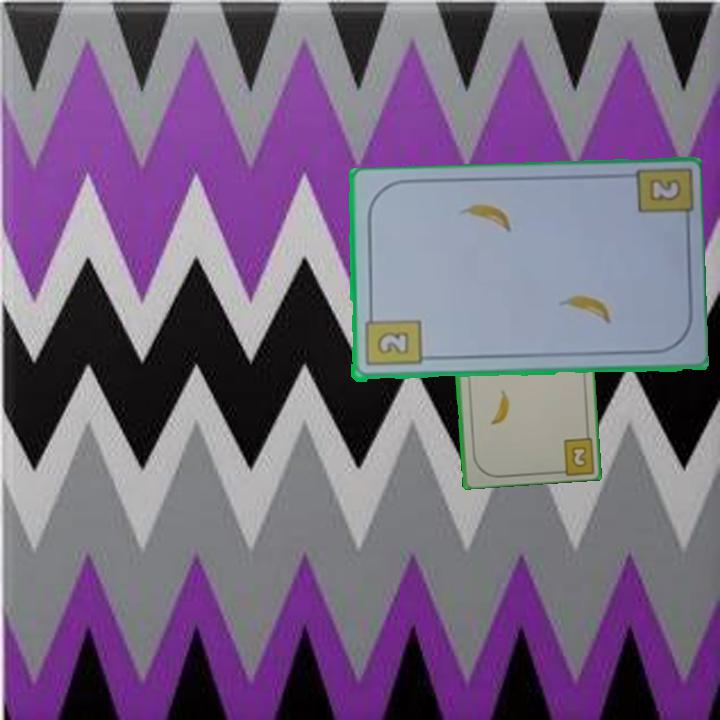2b: (361, 308, 423, 369), (648, 179, 681, 202), (568, 442, 589, 470)
